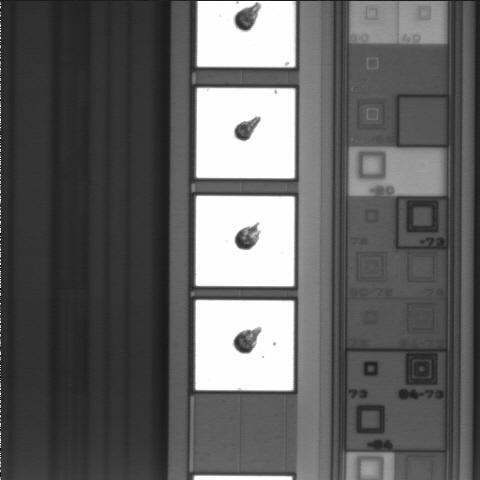pad: (196, 88, 295, 178), (195, 300, 294, 390), (196, 196, 294, 286)
